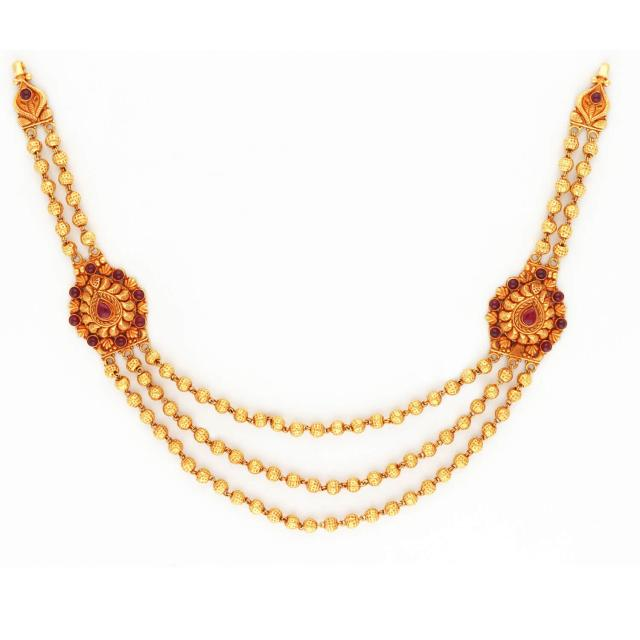missing gem: (512, 344, 523, 355)
